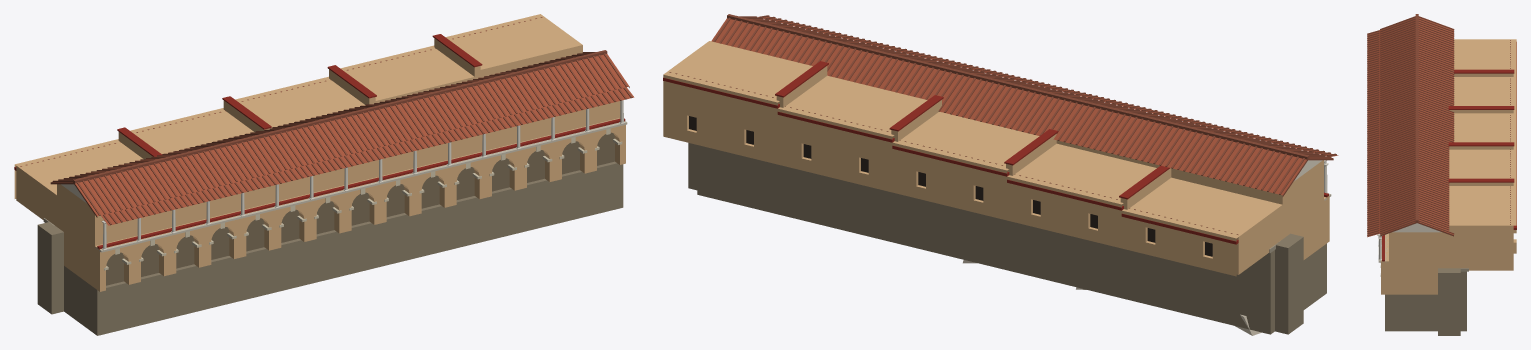
File: rome_pal_block_b_low.glb
3 views of the same model, side by side, from view 1: azimuth 30°, elevation 25°; view 2: azimuth 150°, elevation 25°; view 3: azimuth 270°, elevation 25° (orthographic). The views are drawn at different scales.
Visible parts, largest first — view 1: rome_pal_block_b_low; view 2: rome_pal_block_b_low; view 3: rome_pal_block_b_low.
Boxes of the visible parts, x1,y1,x2,y2 form: rome_pal_block_b_low: (14,14,634,335); rome_pal_block_b_low: (663,14,1338,335); rome_pal_block_b_low: (1367,14,1516,335).
Size of the model in its own units: 62.8 by 16.13 by 18.63.
